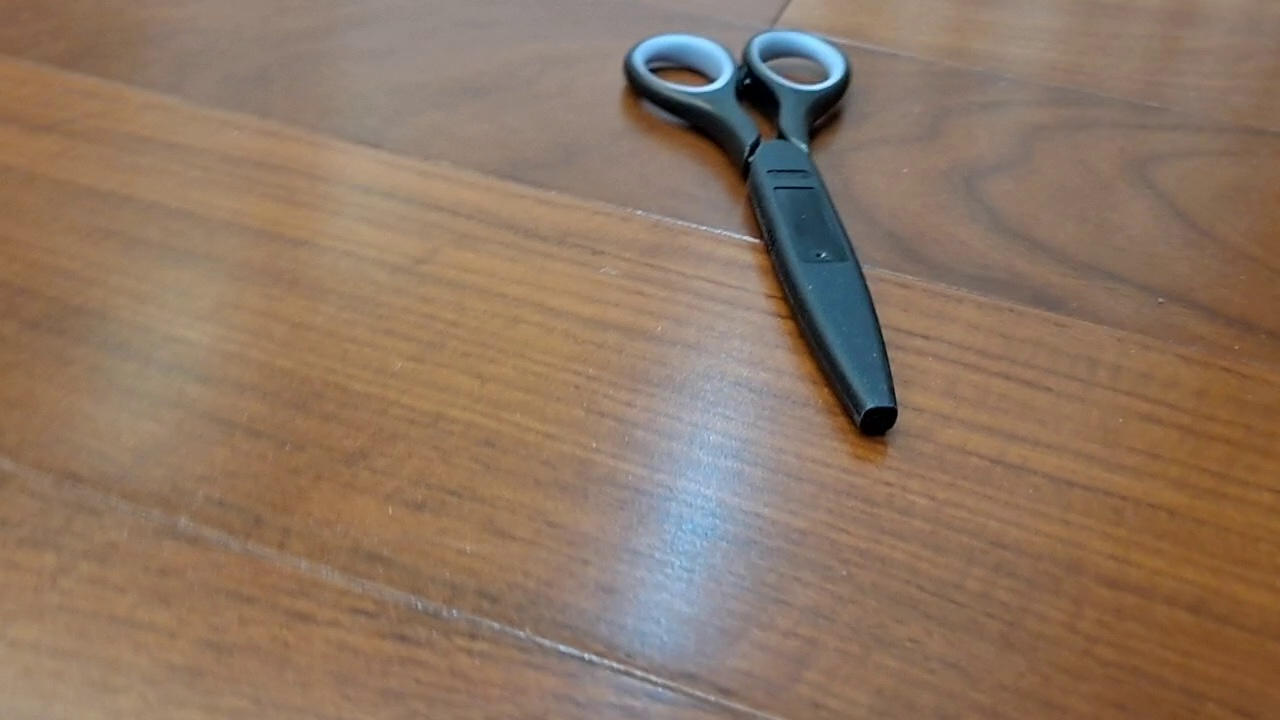scissors: (622, 27, 899, 439)
